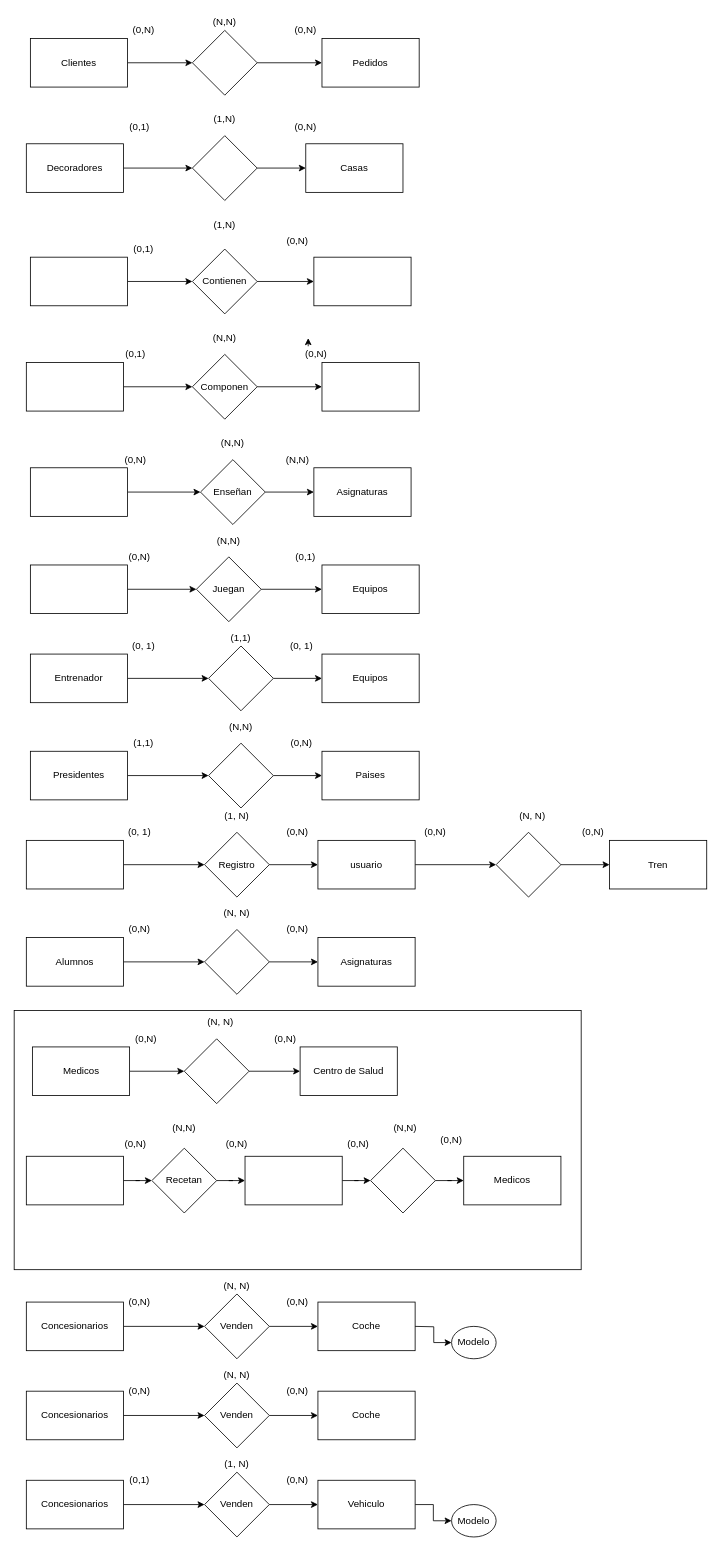
Image size: 721x1551. Some labels were removed from this diagram. The shapes that lost their labels are listed below. From the top down, each one's centre as x and y in pixels, then its label:
At (x=224, y=62): "Realizan".
At (x=224, y=167): "Decoran".
At (x=79, y=281): "Edificios".
At (x=362, y=281): "Viviendas".
At (x=75, y=386): "Facturas".
At (x=370, y=386): "Lineas".
At (x=79, y=491): "Profesores".
At (x=79, y=589): "Jugadores".
At (x=240, y=678): "Entrenan".
At (x=240, y=775): "Elegidos".
At (x=75, y=864): "Web".
At (x=528, y=864): "Viajar".
At (x=236, y=961): "Examinas".
At (x=216, y=1071): "Trabajan".
At (x=75, y=1180): "Pacienttes".
At (x=293, y=1180): "Medicamentos".
At (x=402, y=1180): "Rciben".
